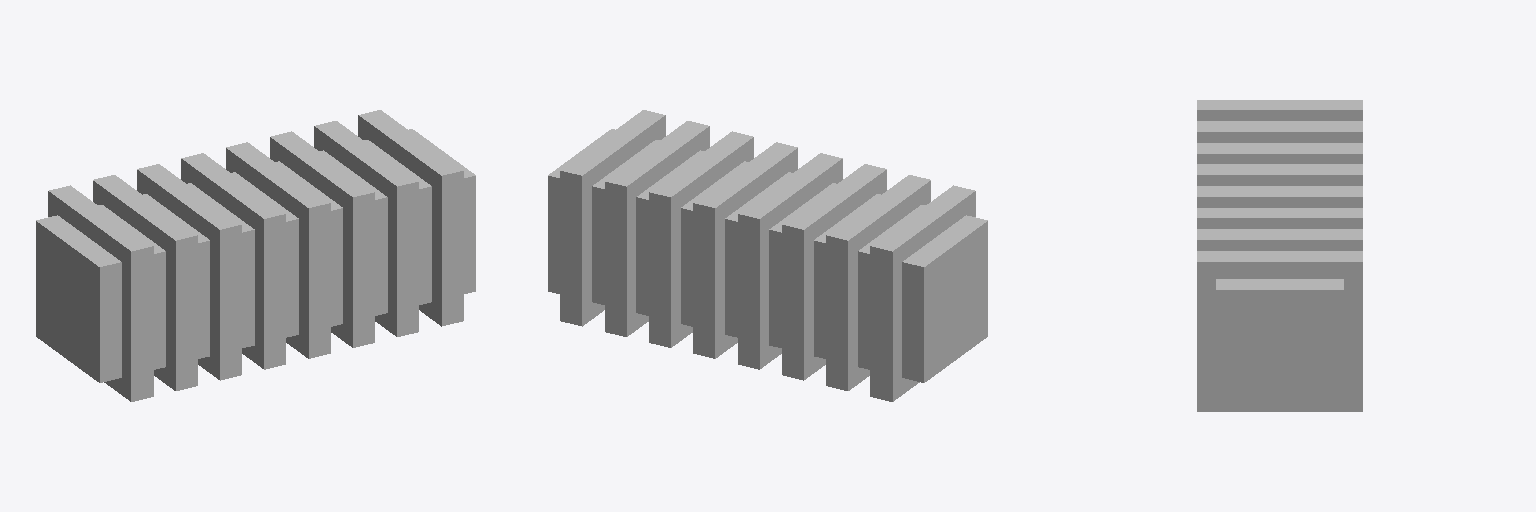
File: crusher_drum.obj
3 views of the same model, side by side, from view 1: azimuth 30°, elevation 25°; view 2: azimuth 150°, elevation 25°; view 3: azimuth 270°, elevation 25° (orthographic).
Visible parts, largest first — view 1: drum0; view 2: drum0; view 3: drum0.
Part boxes in pixels (x1,y1,x2,y2): drum0: (36, 110, 475, 401); drum0: (548, 110, 987, 401); drum0: (1197, 100, 1362, 411).
Size of the model in its own units: 2.12 by 0.8125 by 0.8125.